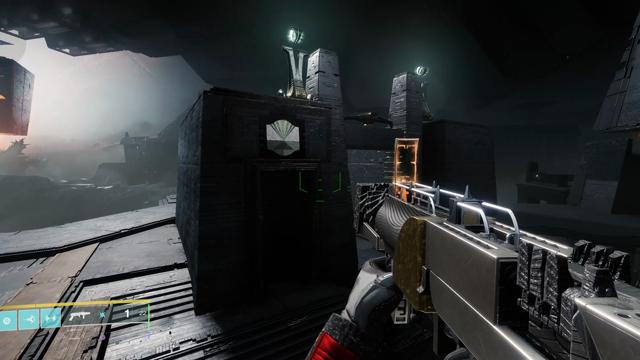commune: (266, 120, 300, 155)
